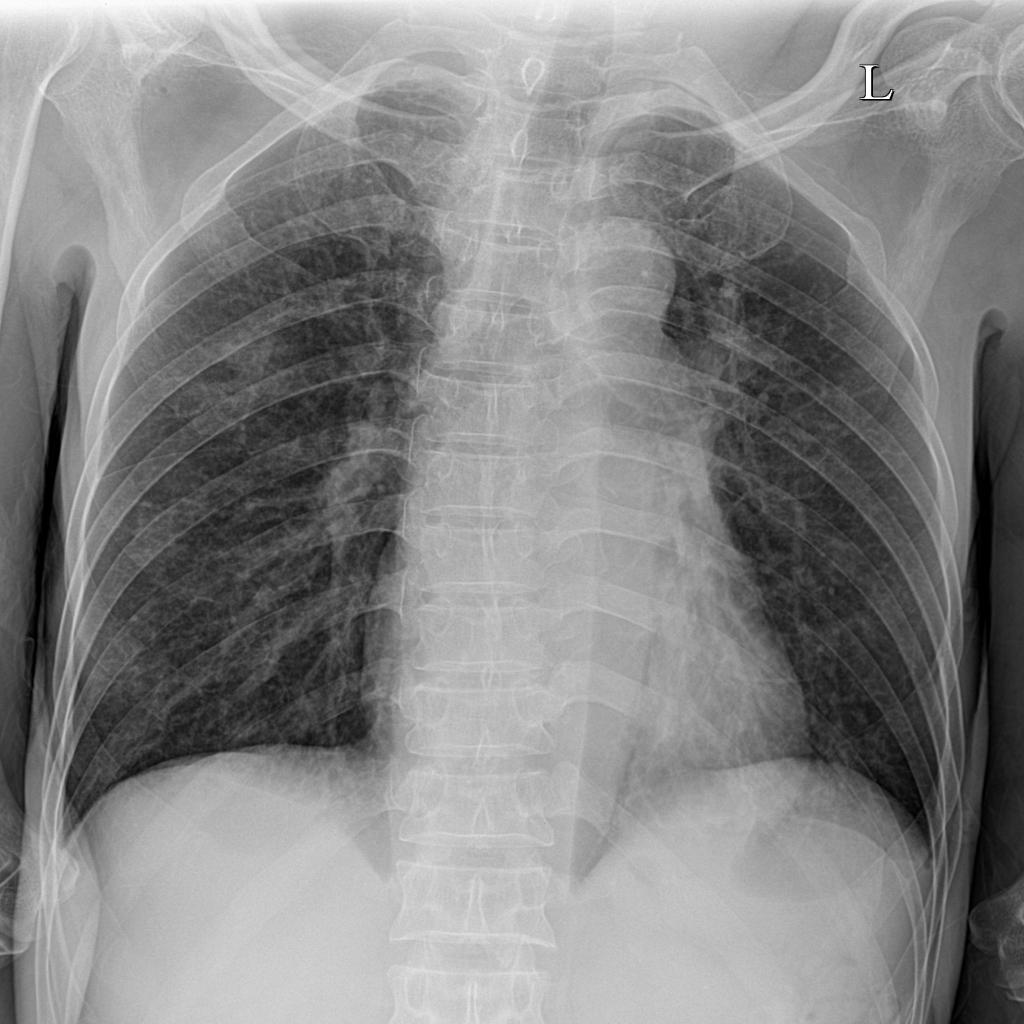Nodule: (206, 319, 301, 387)
